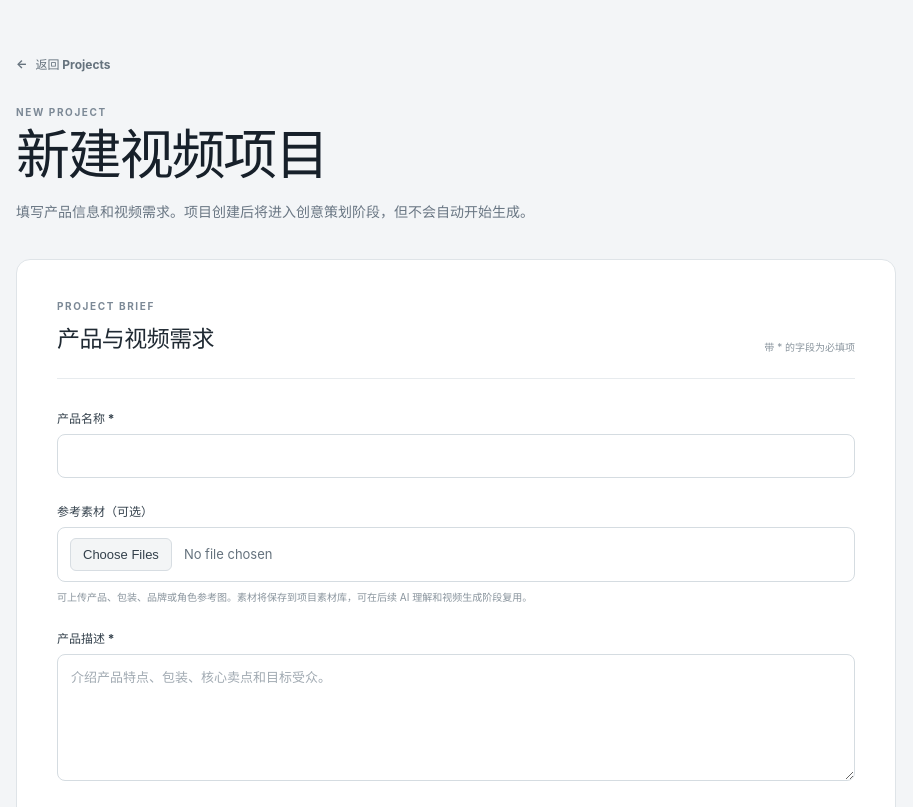
CreateProjectPage › does not request an invalid duration
This screenshot has width=913, height=807.
Type "  测试柠檬  " into the field labelled "产品名称 *" at [456, 456], box [57,434,855,478]
Type "  新鲜柠檬饮料  " into the text box labelled "产品描述 *" at [456, 717], box [57,654,855,781]
(page scrolled)
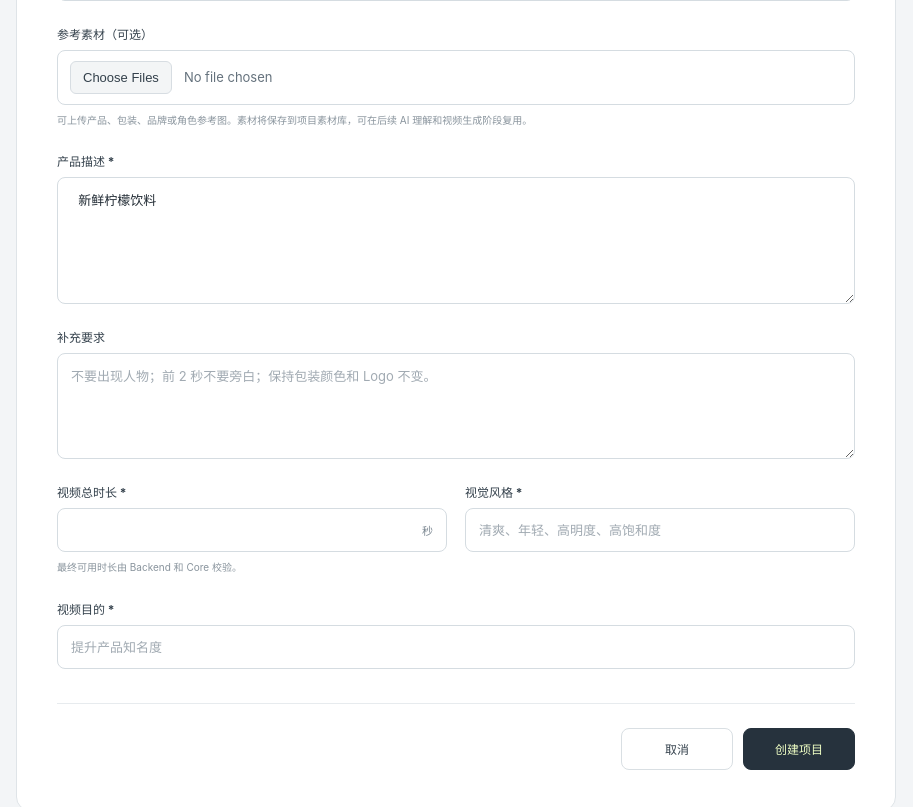
Type "  不要出现人物  " into the text box labelled "补充要求" at [456, 406], box [57,353,855,459]
Type "18" into the number field labelled "视频总时长 *" at [252, 530], box [57,508,447,552]
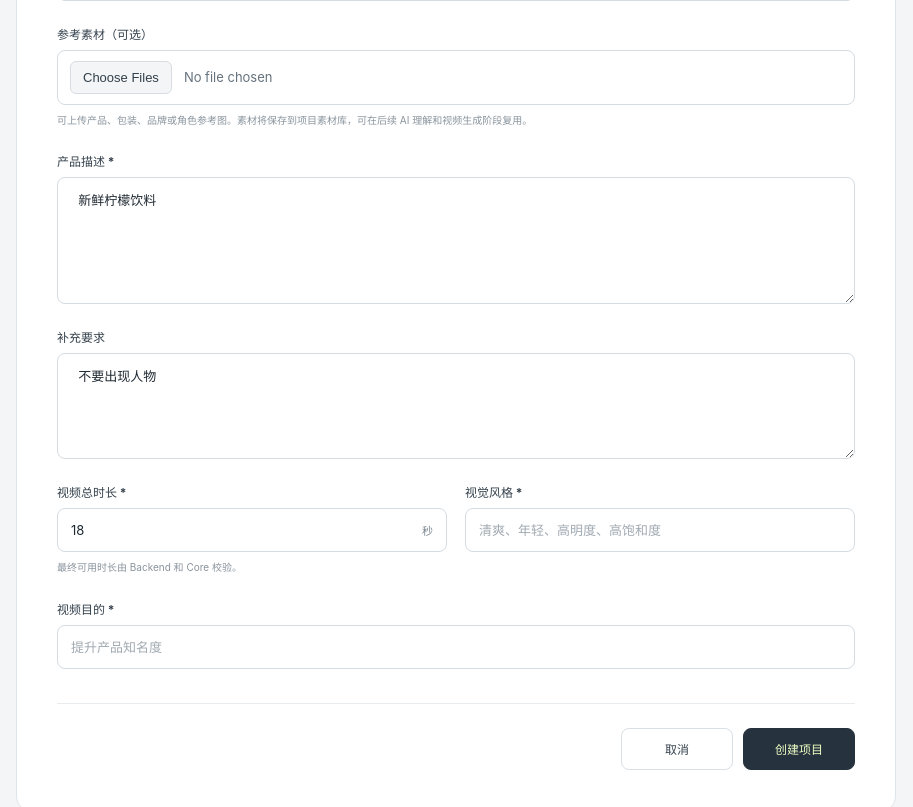
Type "  清爽、年轻  " into the field labelled "视觉风格 *" at [660, 530], box [465,508,855,552]
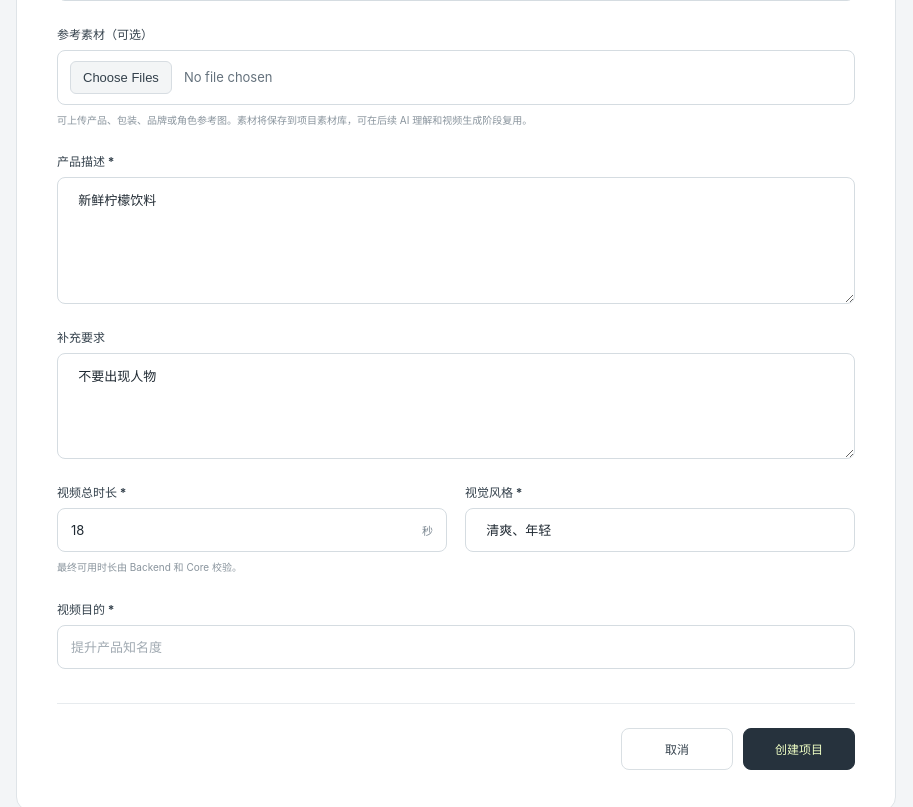
Type "  提升产品知名度  " into the field labelled "视频目的 *" at [456, 647], box [57,625,855,669]
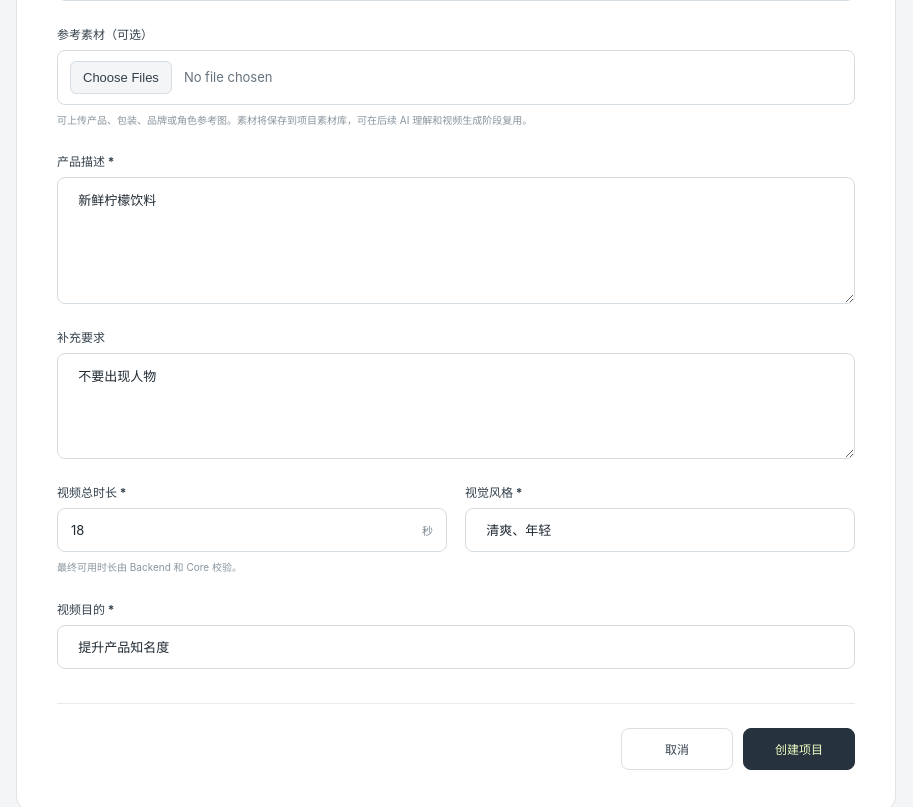
Replace the text in the number field labelled "视频总时长 *" with "0" at [252, 530], box [57,508,447,552]
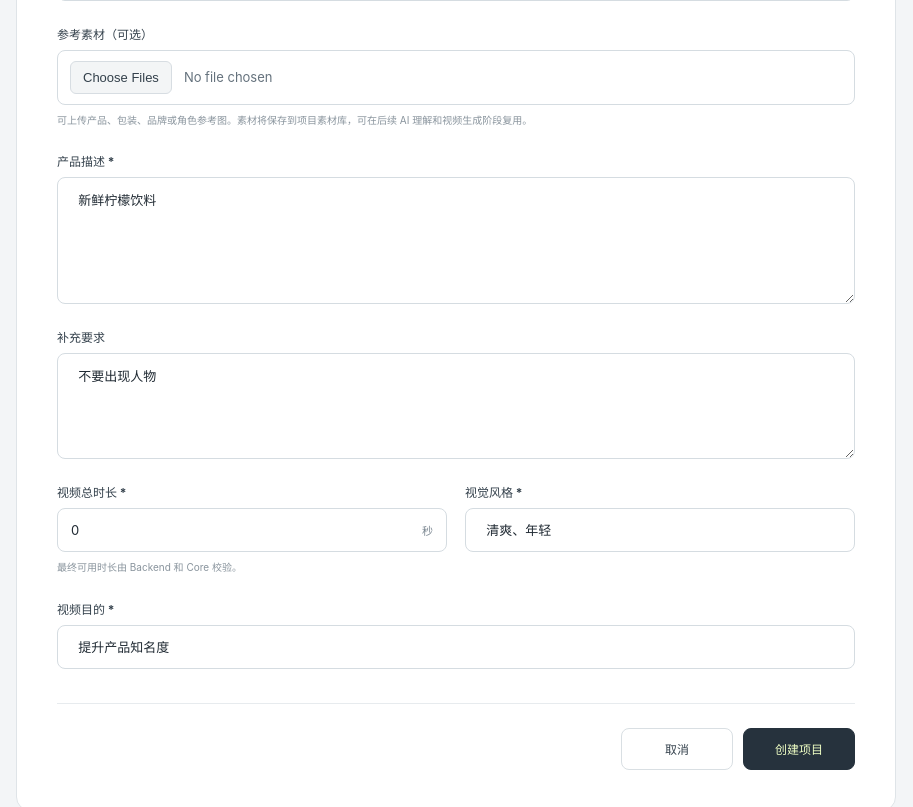
Click the button "创建项目" at [799, 749], box [743,728,855,770]
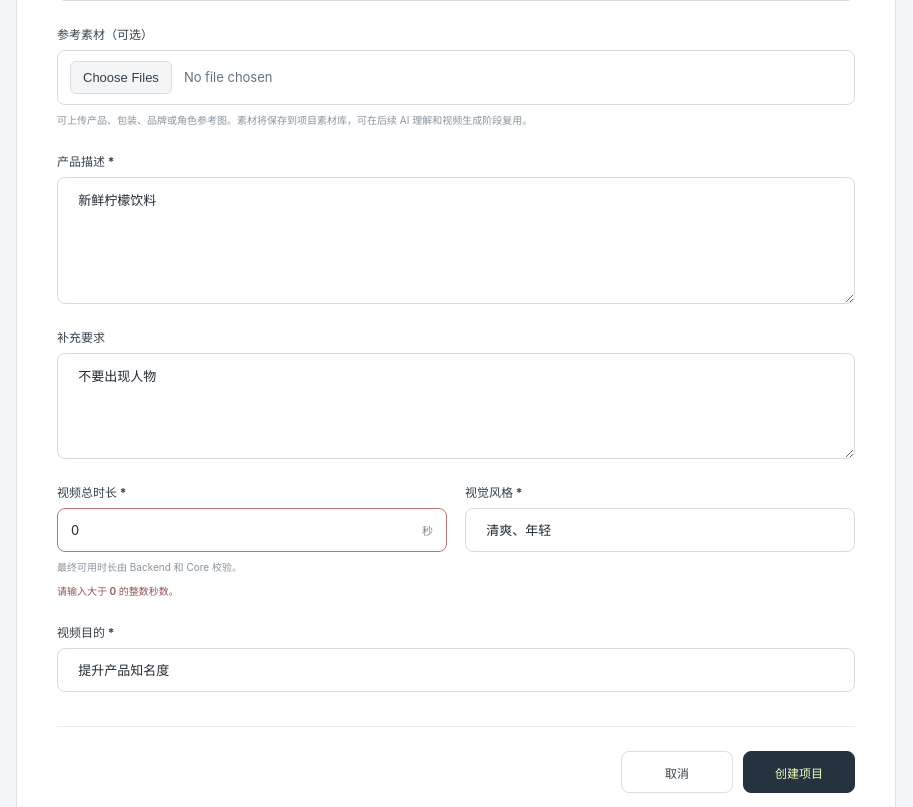
Expected: the text "请输入大于 0 的整数秒数。" is shown, [57,585,179,597]
